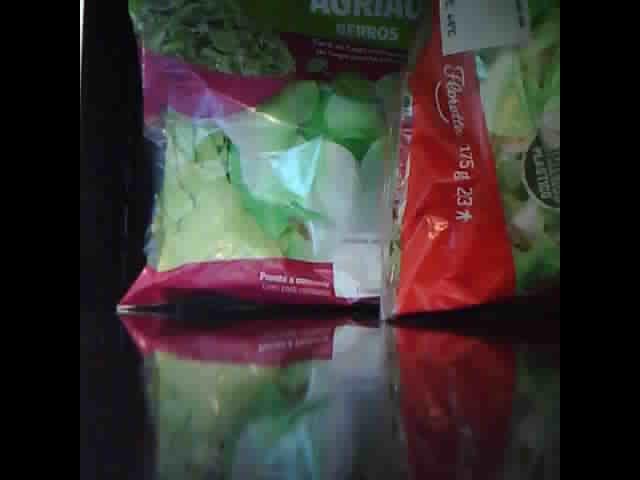florette: (113, 1, 430, 321), (378, 5, 559, 322)
